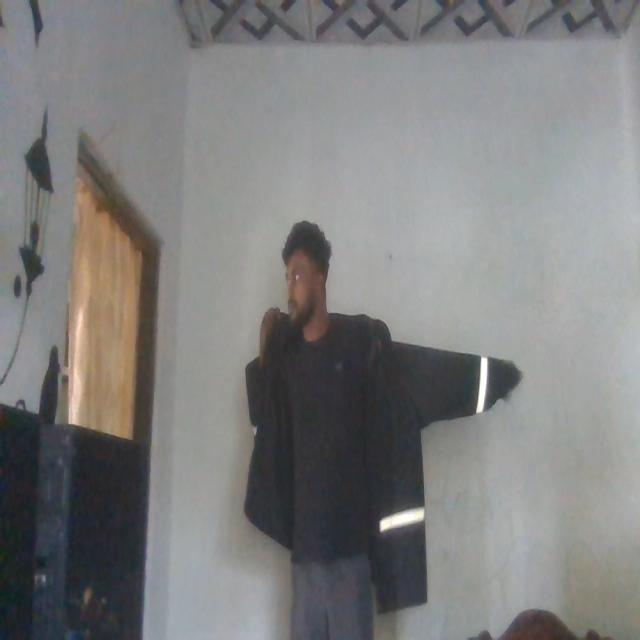Jacket_Wearer: (233, 300, 526, 601)
Person: (223, 200, 389, 636)
